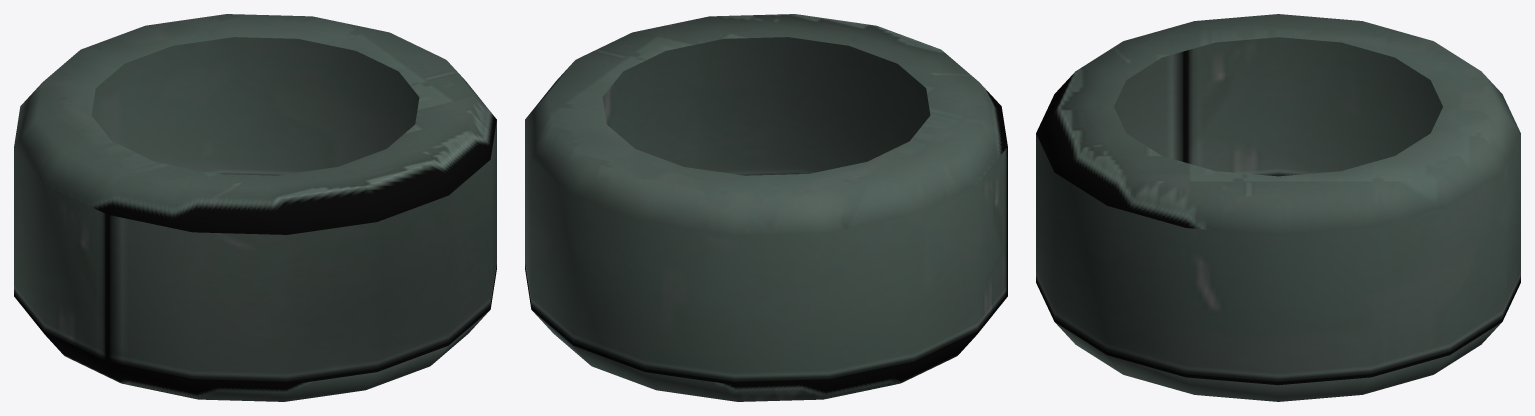
Rendered from SpareTire_2.fbx.
3 renders of one model, left to right at view 1: azimuth 30°, elevation 25°; view 2: azimuth 150°, elevation 25°; view 3: azimuth 270°, elevation 25°, orthographic.
Visible parts, largest first — view 1: SpareTire_2; view 2: SpareTire_2; view 3: SpareTire_2.
Part boxes in pixels (x1,y1,x2,y2): SpareTire_2: (14, 14, 496, 401); SpareTire_2: (525, 14, 1007, 401); SpareTire_2: (1036, 14, 1520, 401).
Size of the model in its own units: 46.3 by 21.32 by 46.3.
